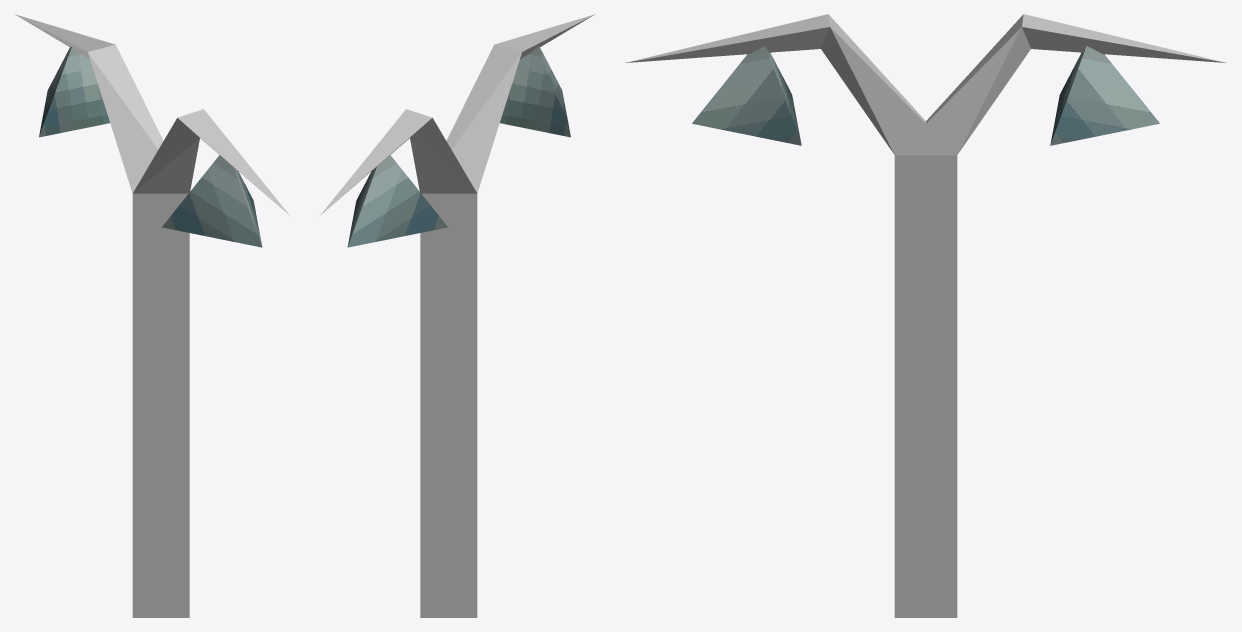
File: streetlight.obj
3 views of the same model, side by side, from view 1: azimuth 30°, elevation 25°; view 2: azimuth 150°, elevation 25°; view 3: azimuth 270°, elevation 25° (orthographic). The views are drawn at different scales.
Parts seen in each view (by area): view 1: streetlight; view 2: streetlight; view 3: streetlight.
Part boxes in pixels (<box>): streetlight: <box>15,14,289,617</box>; streetlight: <box>320,14,594,617</box>; streetlight: <box>625,14,1226,617</box>.
Bounding box in the file's own units: 2.33 × 12.32 × 11.57.
